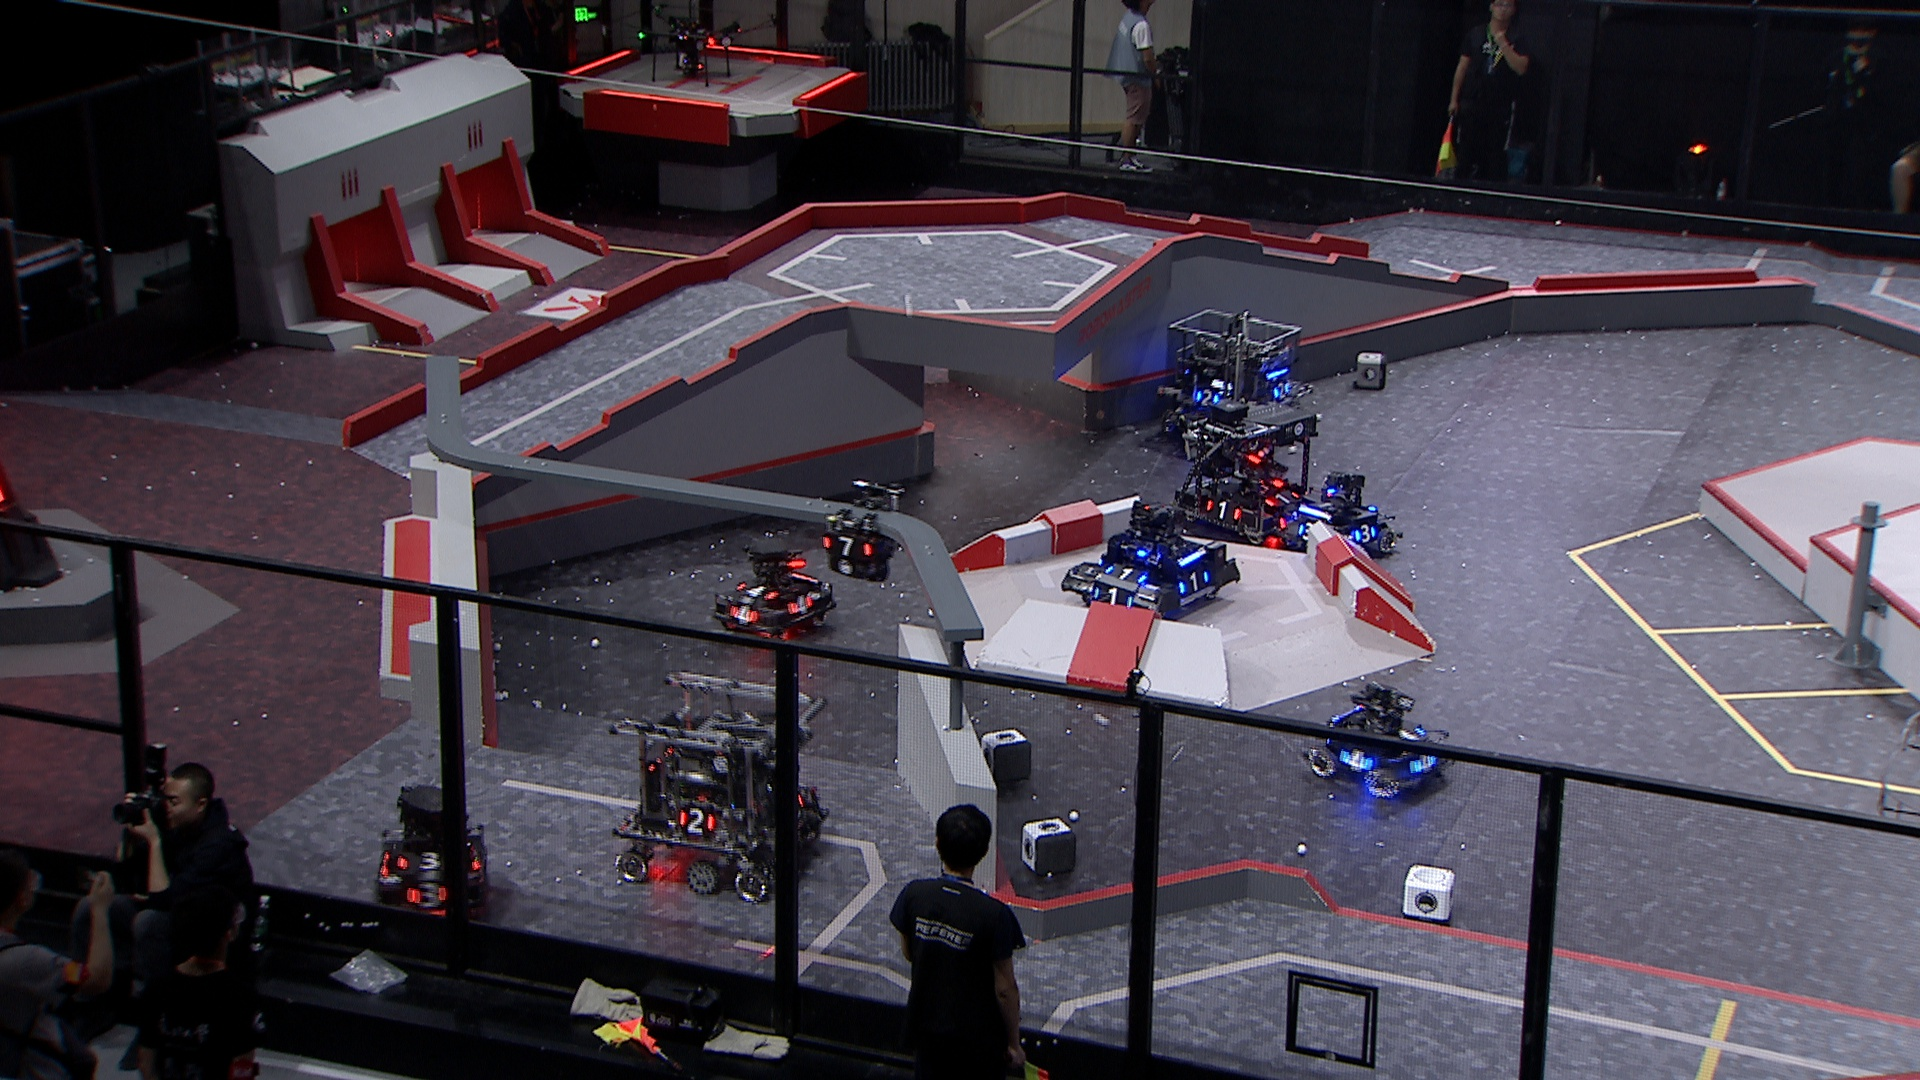armor: (401, 880, 448, 911), (674, 806, 717, 837), (822, 534, 874, 559), (396, 849, 444, 876), (1092, 585, 1138, 609), (1098, 564, 1149, 585), (1205, 500, 1249, 524), (731, 579, 781, 599), (1338, 749, 1375, 774), (1176, 570, 1211, 593), (728, 603, 760, 628), (1265, 491, 1304, 508), (1411, 752, 1443, 773), (1353, 522, 1379, 545), (1395, 723, 1429, 738), (789, 593, 814, 615), (1195, 389, 1221, 409), (1269, 381, 1291, 401), (1278, 509, 1302, 527), (1298, 524, 1316, 542)
car: (603, 670, 829, 897), (1168, 396, 1325, 546), (1059, 498, 1240, 626), (1154, 309, 1309, 454), (1307, 680, 1460, 798), (372, 785, 495, 920), (711, 535, 839, 640), (1273, 467, 1395, 566)
watcher: (814, 480, 913, 582)
